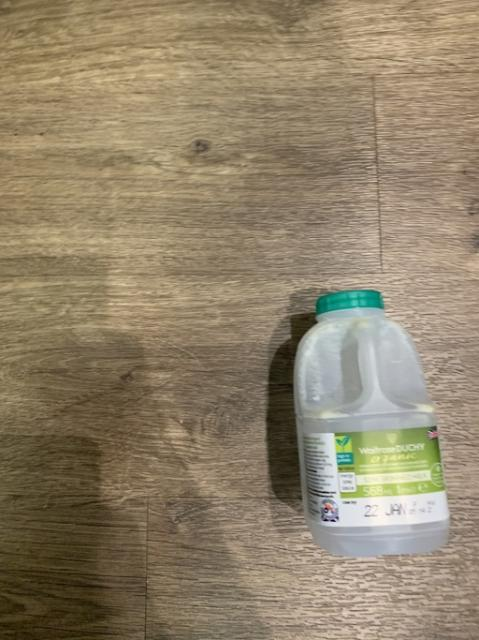plastic: (294, 290, 448, 554)
